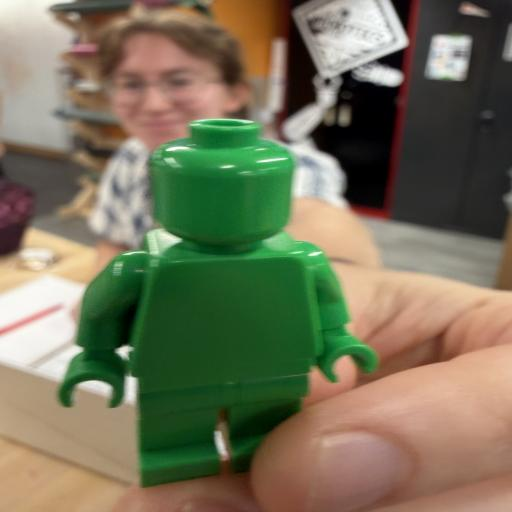Green-Lego: (59, 119, 378, 486)
